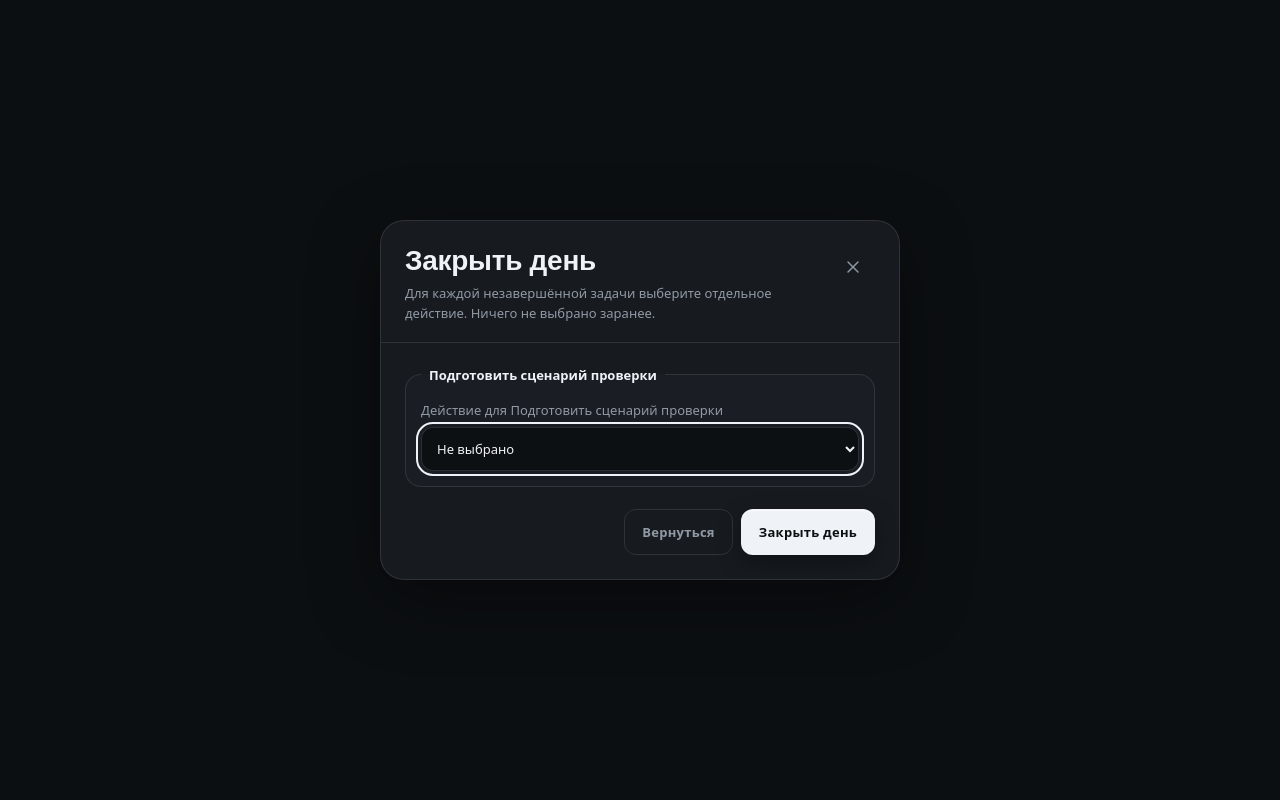
Test case: CloseDayDialog › preserves invalid move drafts and validates target and positive duration
The image size is (1280, 800).
Select "Перенести на дату" in the dropdown labelled "Действие для Подготовить сценарий проверки" at {"x": 640, "y": 449}, box [421,427,859,471]
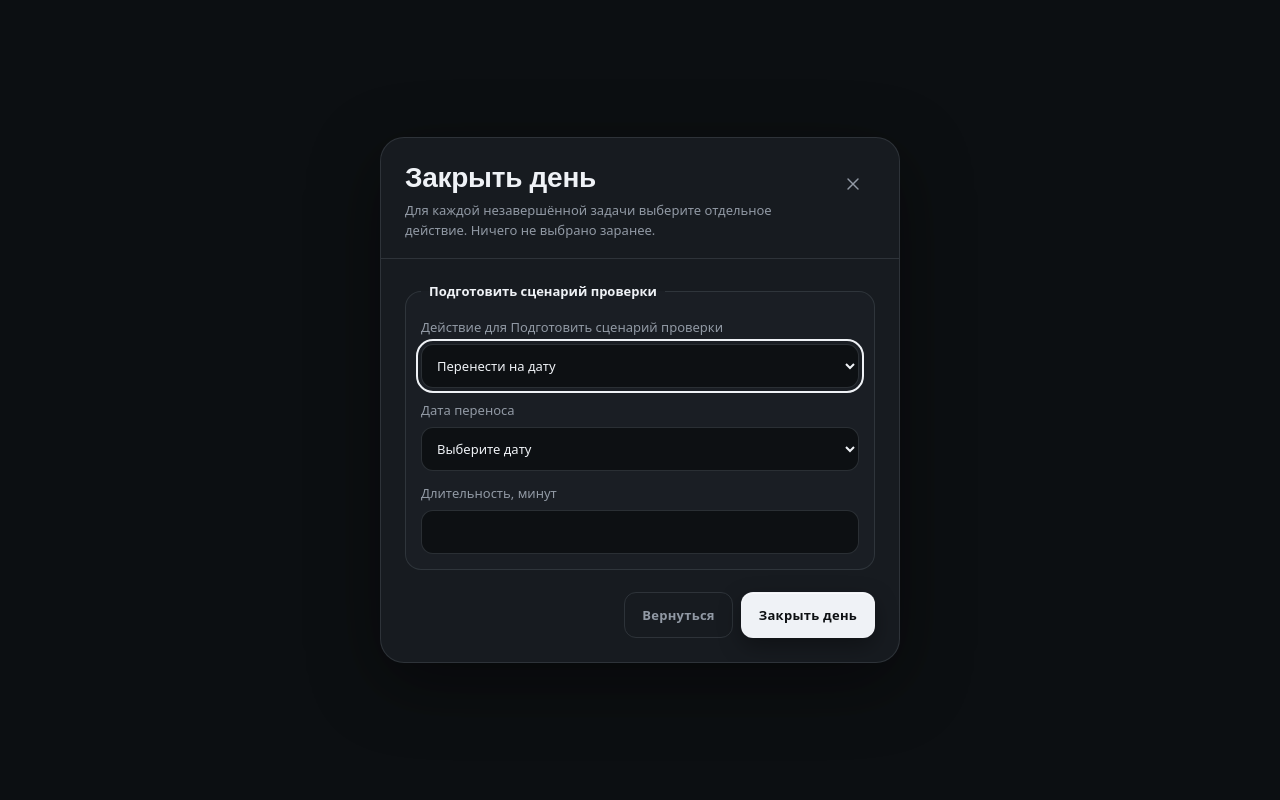
Select "2026-05-21" in the dropdown labelled "Дата переноса" at {"x": 640, "y": 449}, box [421,427,859,471]
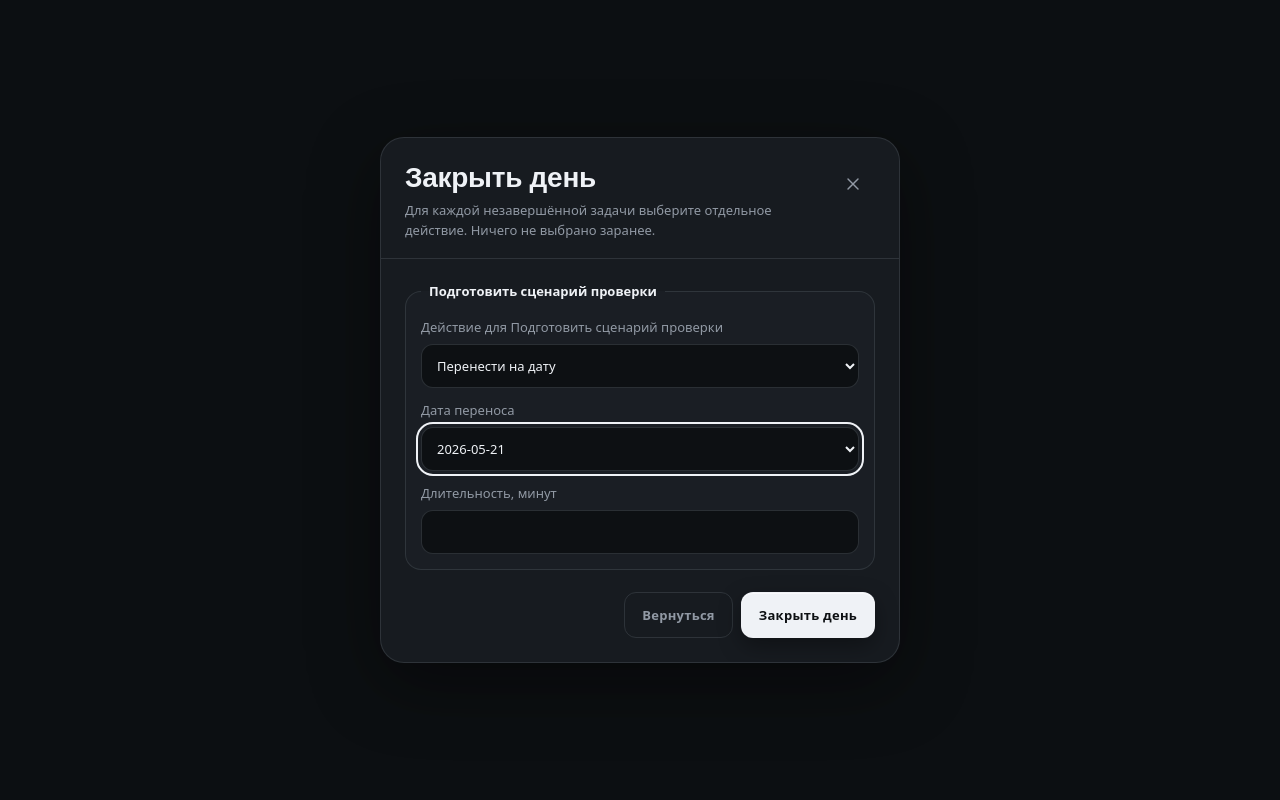
Type "0" into the number field labelled "Длительность, минут" at {"x": 640, "y": 532}, box [421,510,859,554]
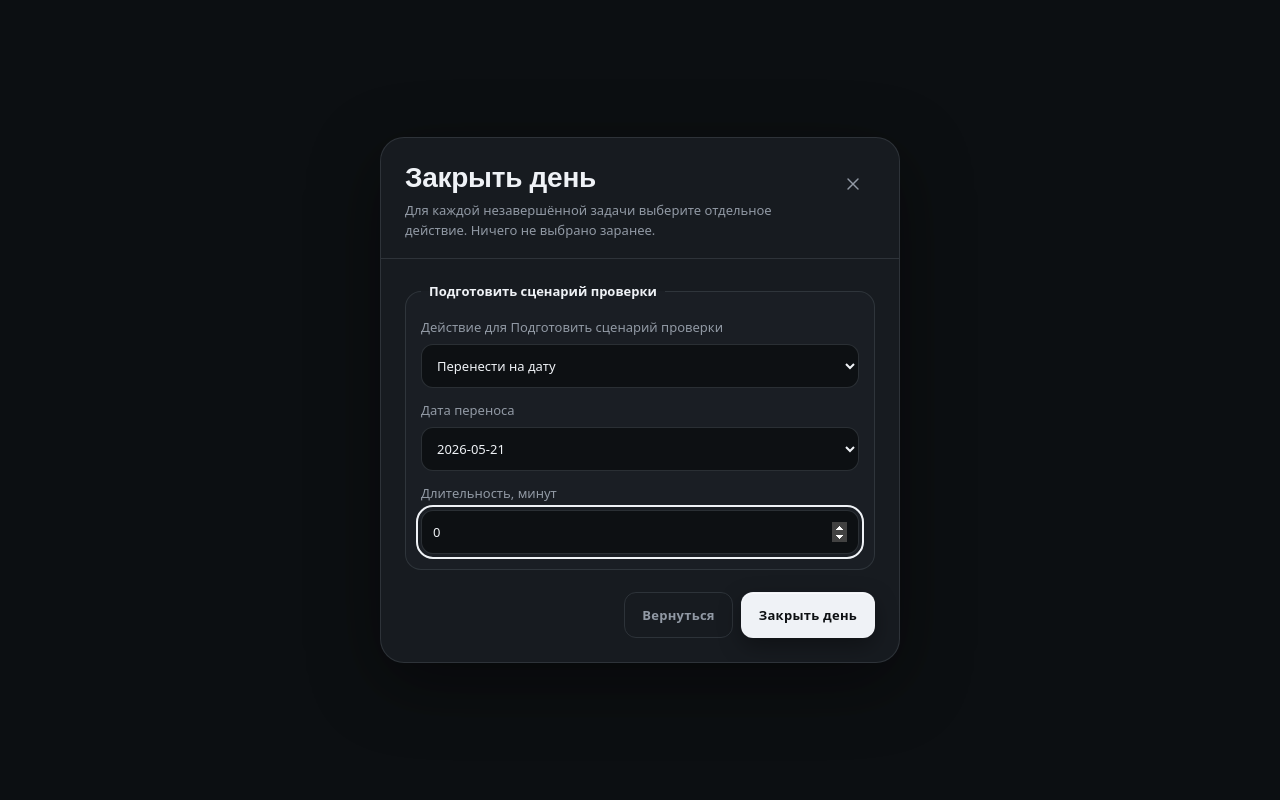
Click the button "Закрыть день" at {"x": 808, "y": 615}, box [741,592,875,638]
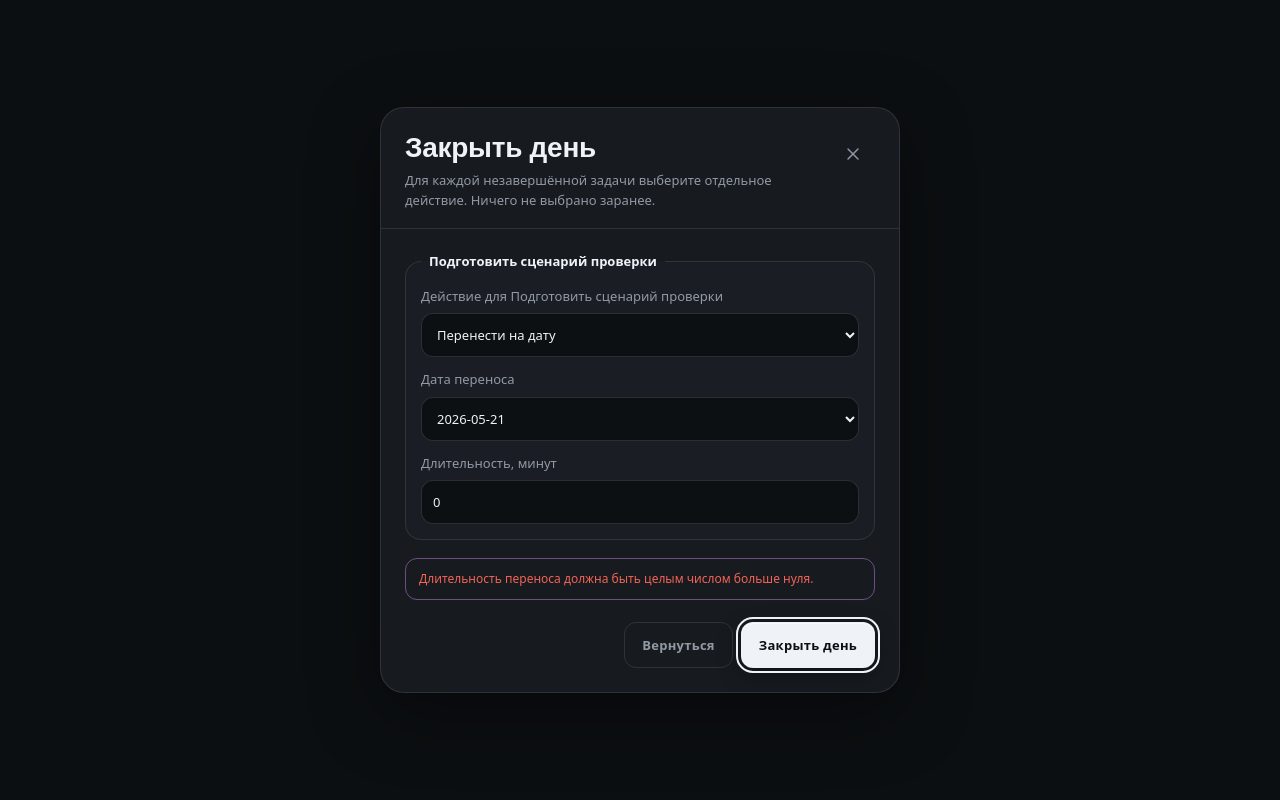
Result: the message shows "больше нуля" at [419,570,813,587]
